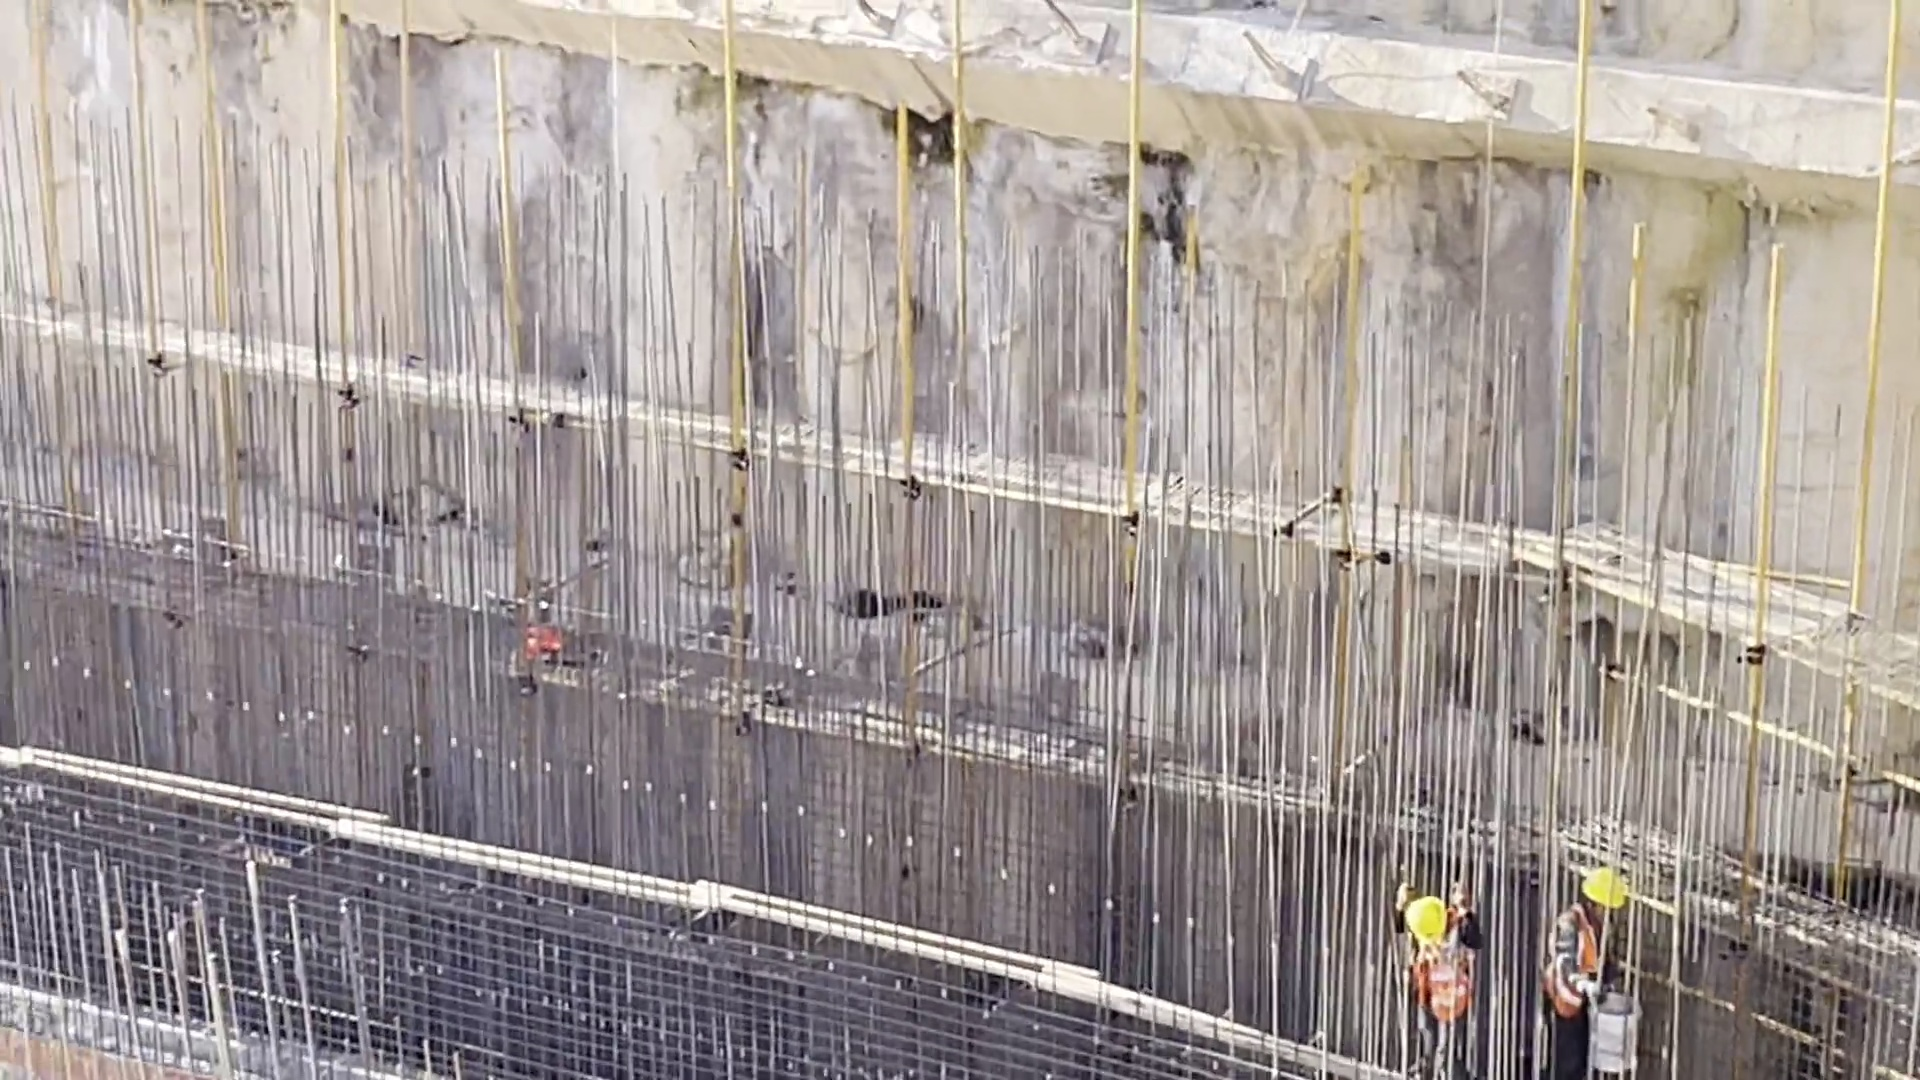helmet: (1401, 897, 1452, 943), (1577, 871, 1632, 911)
person: (1537, 864, 1647, 1080), (1382, 878, 1494, 1080)
vest: (1533, 905, 1615, 1013), (1400, 939, 1481, 1022)
